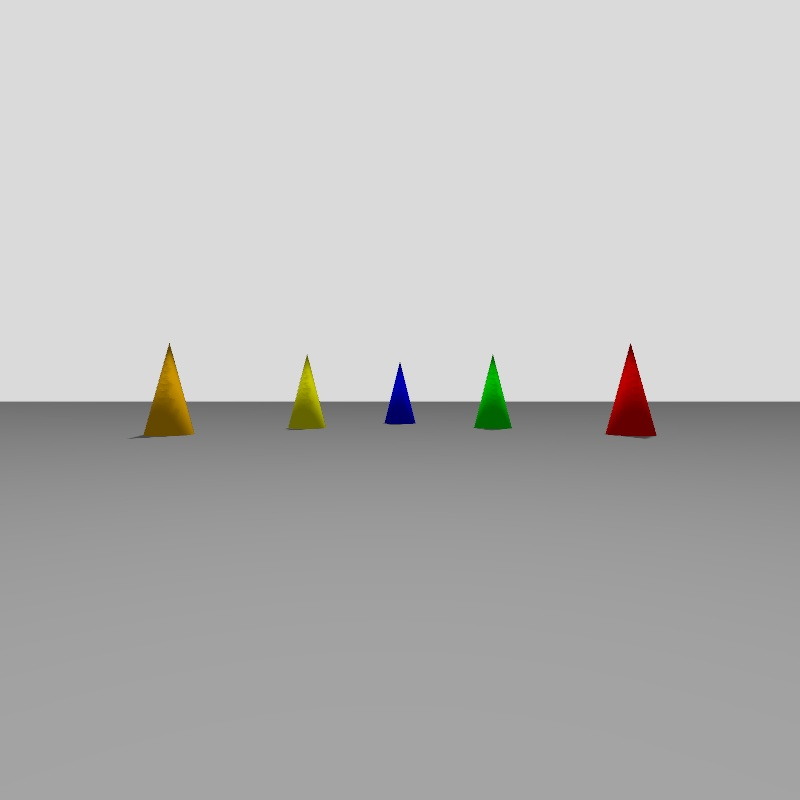Blue_cone: (385, 364, 414, 423)
Green_cone: (475, 356, 511, 428)
Orange_cone: (144, 345, 193, 436)
Red_cone: (607, 345, 656, 437)
Yellow_cone: (288, 356, 325, 428)
